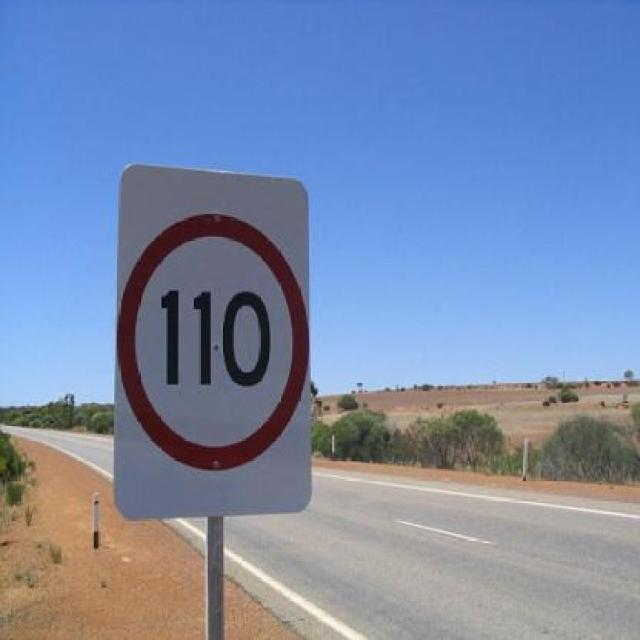speed limit 110: (118, 215, 311, 470)
